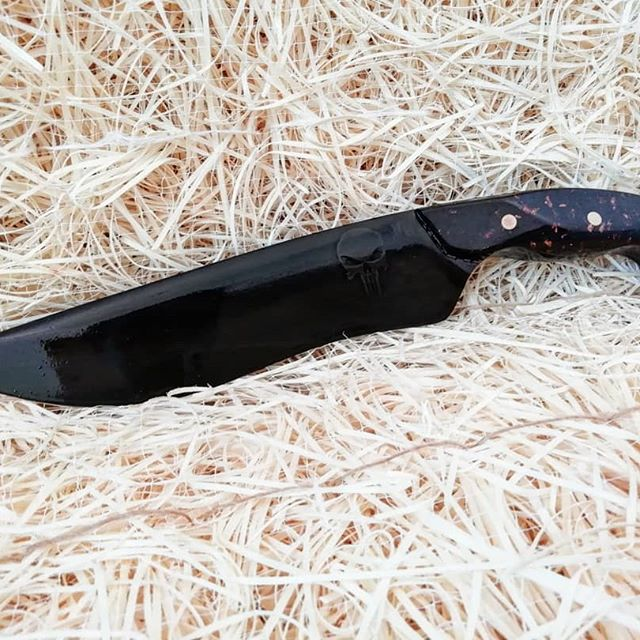knife: (1, 187, 640, 407)
